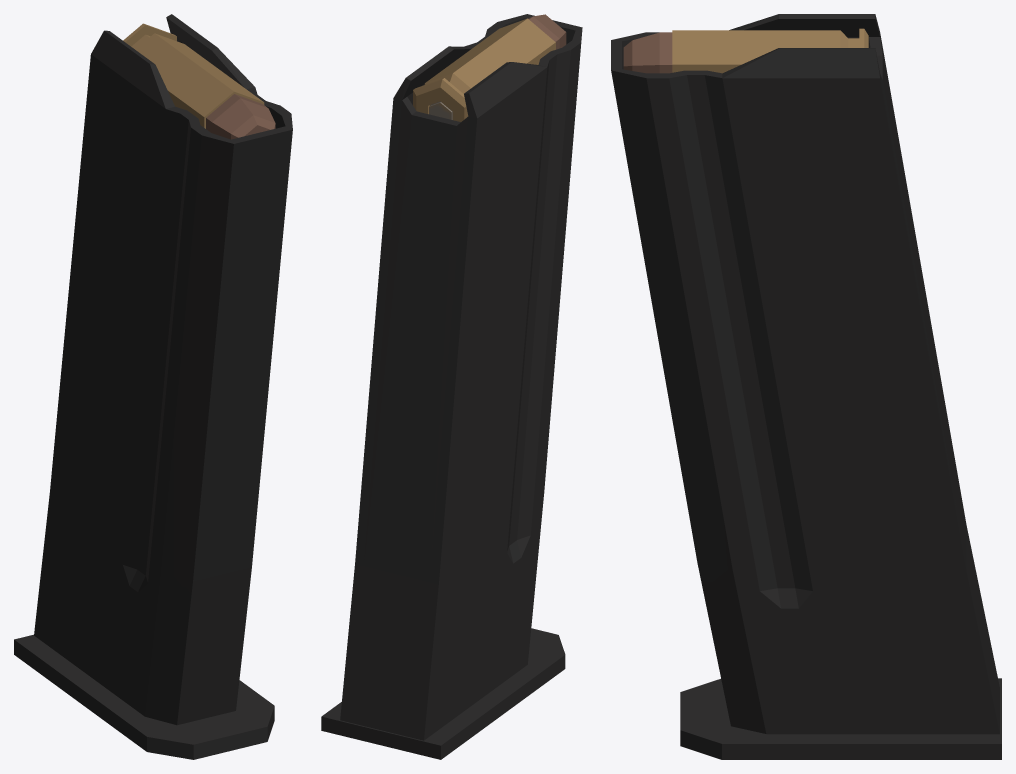
The model's file is SM_Deagle_Magazine.fbx.
3 renders of one model, left to right at view 1: azimuth 30°, elevation 25°; view 2: azimuth 150°, elevation 25°; view 3: azimuth 270°, elevation 25°, orthographic. The views are drawn at different scales.
Parts seen in each view (by area): view 1: SM_Deagle_Magazine; view 2: SM_Deagle_Magazine; view 3: SM_Deagle_Magazine.
Boxes of the visible parts, x1,y1,x2,y2 form: SM_Deagle_Magazine: (14, 14, 292, 759); SM_Deagle_Magazine: (321, 14, 582, 759); SM_Deagle_Magazine: (611, 14, 1001, 759).
Size of the model in its own units: 2.58 by 12.83 by 6.51.
